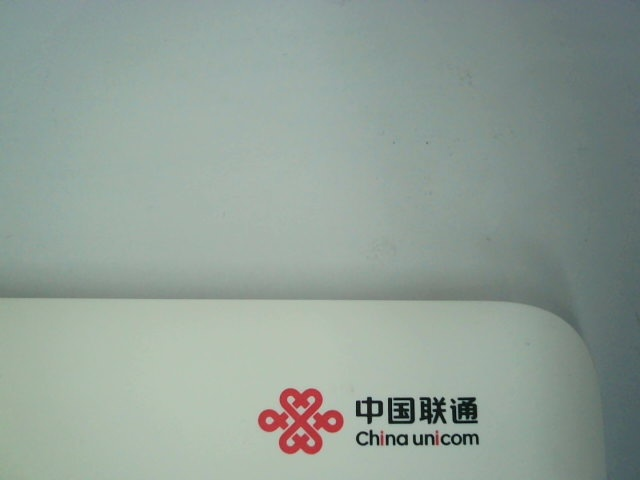AD_ChinaUnicom: (249, 381, 485, 460)
